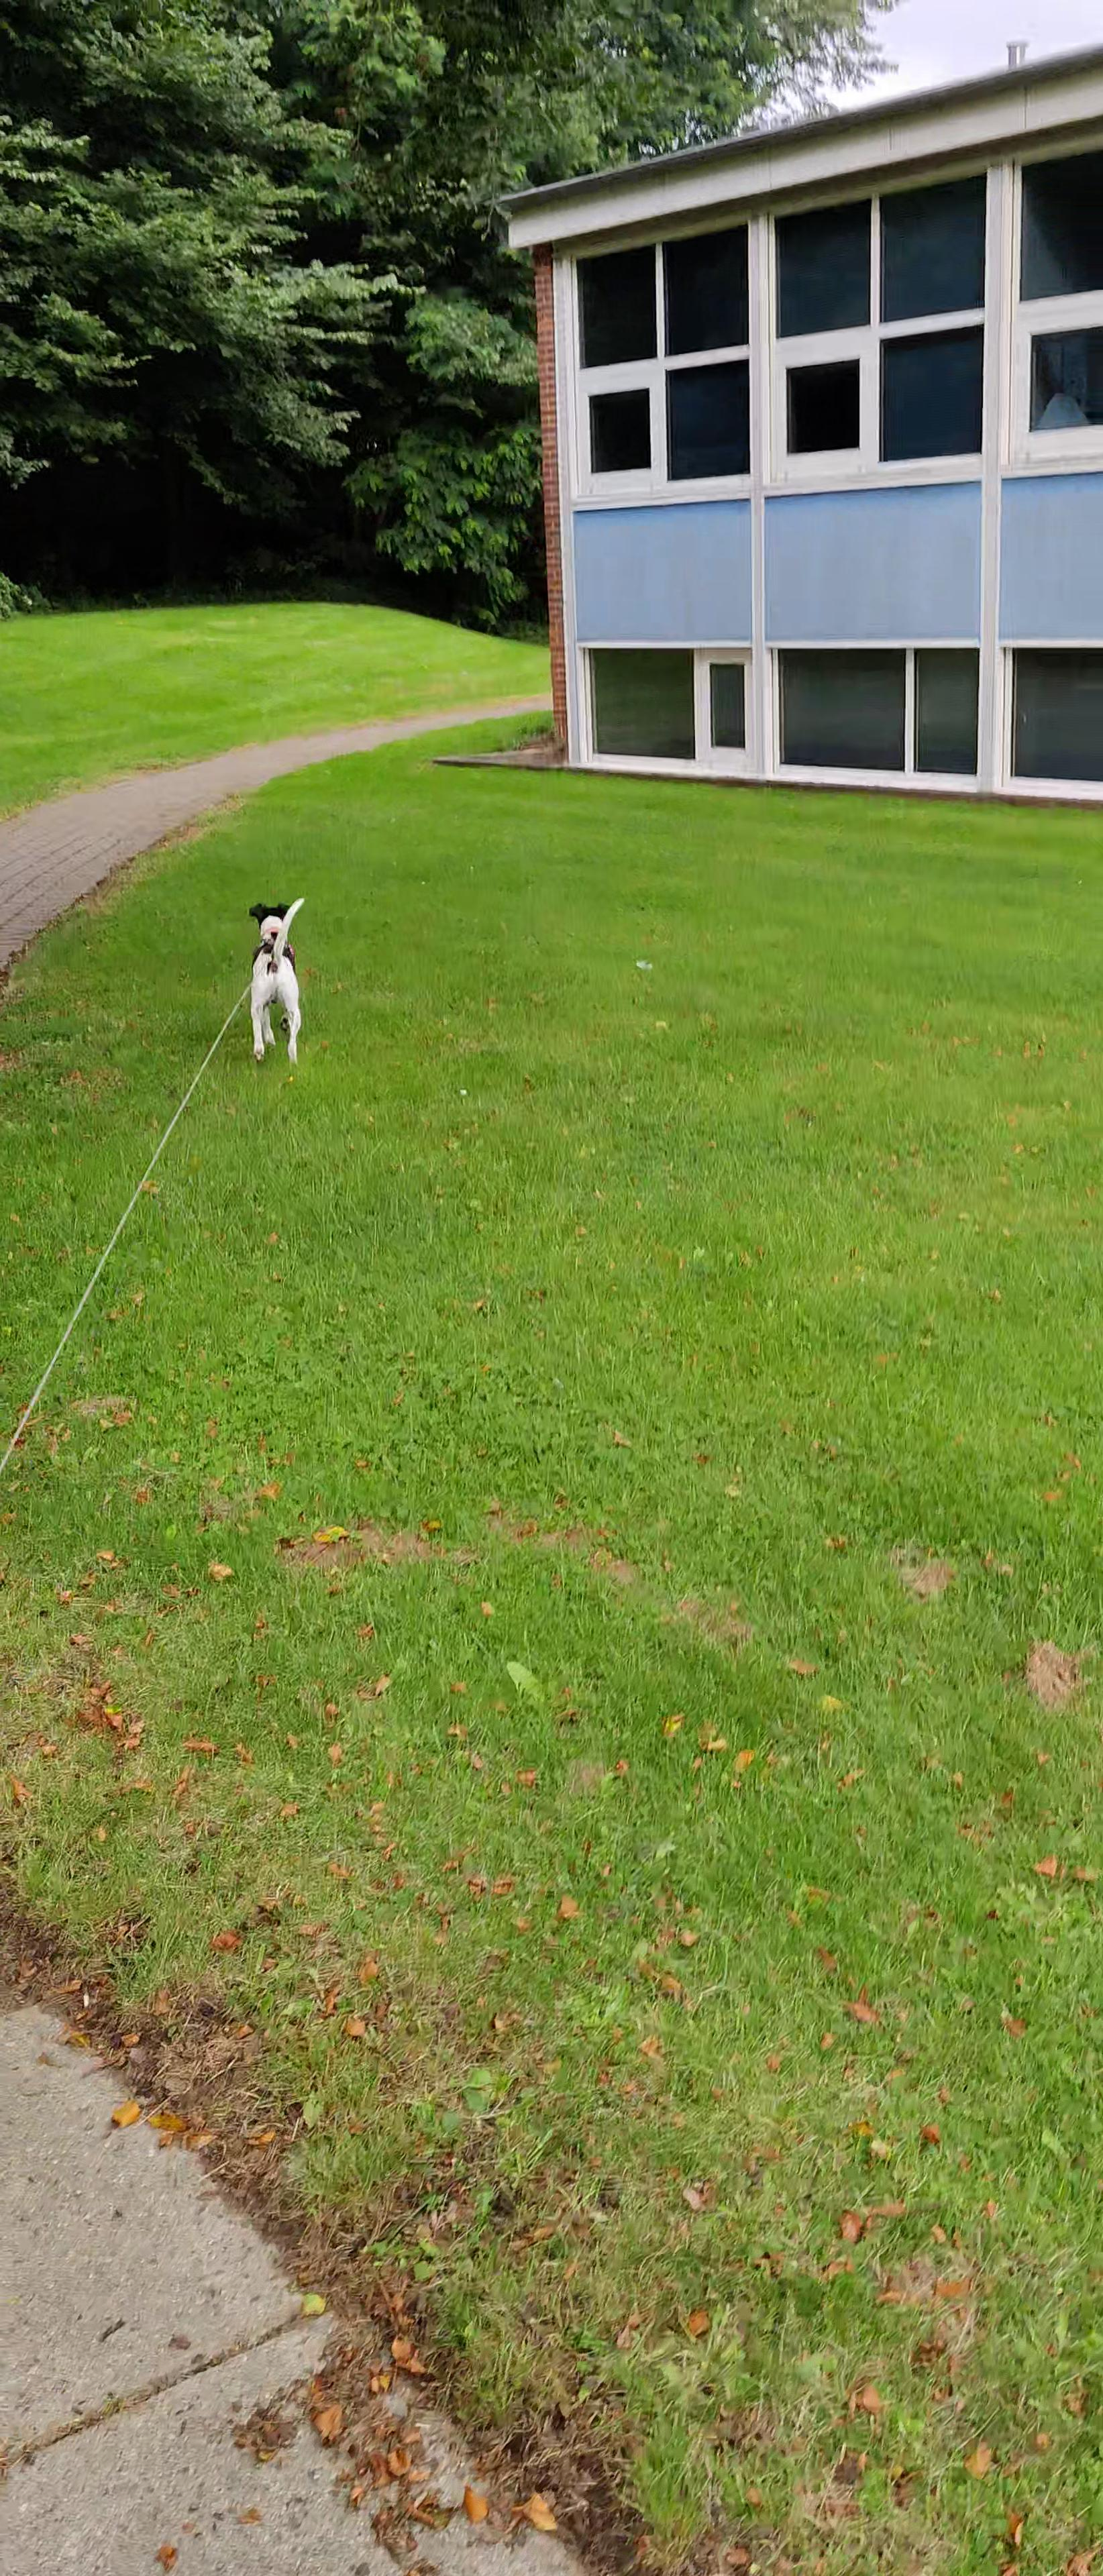Dog: (237, 892, 309, 1073)
